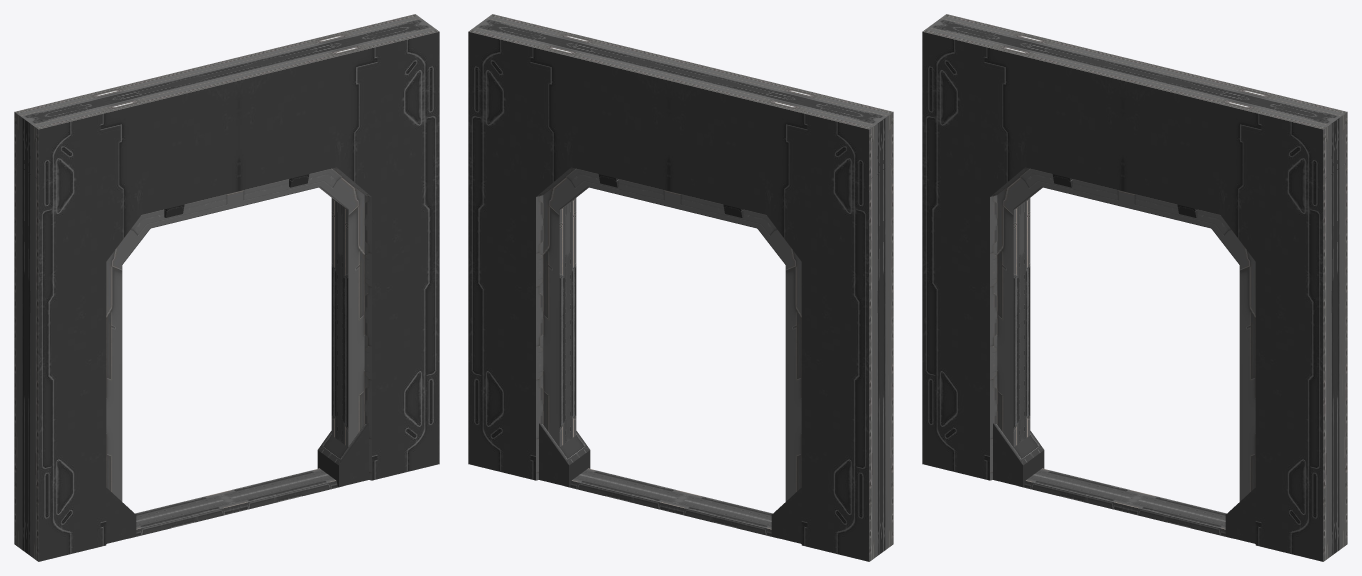
The model's file is door_frame_square.gltf.
The picture shows the model from 3 angles, left to right: view 1: azimuth 30°, elevation 25°; view 2: azimuth 150°, elevation 25°; view 3: azimuth 330°, elevation 25°; orthographic projection.
Visible parts, largest first — view 1: Door_Frame_Square; view 2: Door_Frame_Square; view 3: Door_Frame_Square.
Part boxes in pixels (x1,y1,x2,y2): Door_Frame_Square: (14,14,439,561); Door_Frame_Square: (468,14,893,561); Door_Frame_Square: (922,14,1347,561).
Size of the model in its own units: 4.85 by 5.01 by 0.5068.
1 material, 1 textured.
